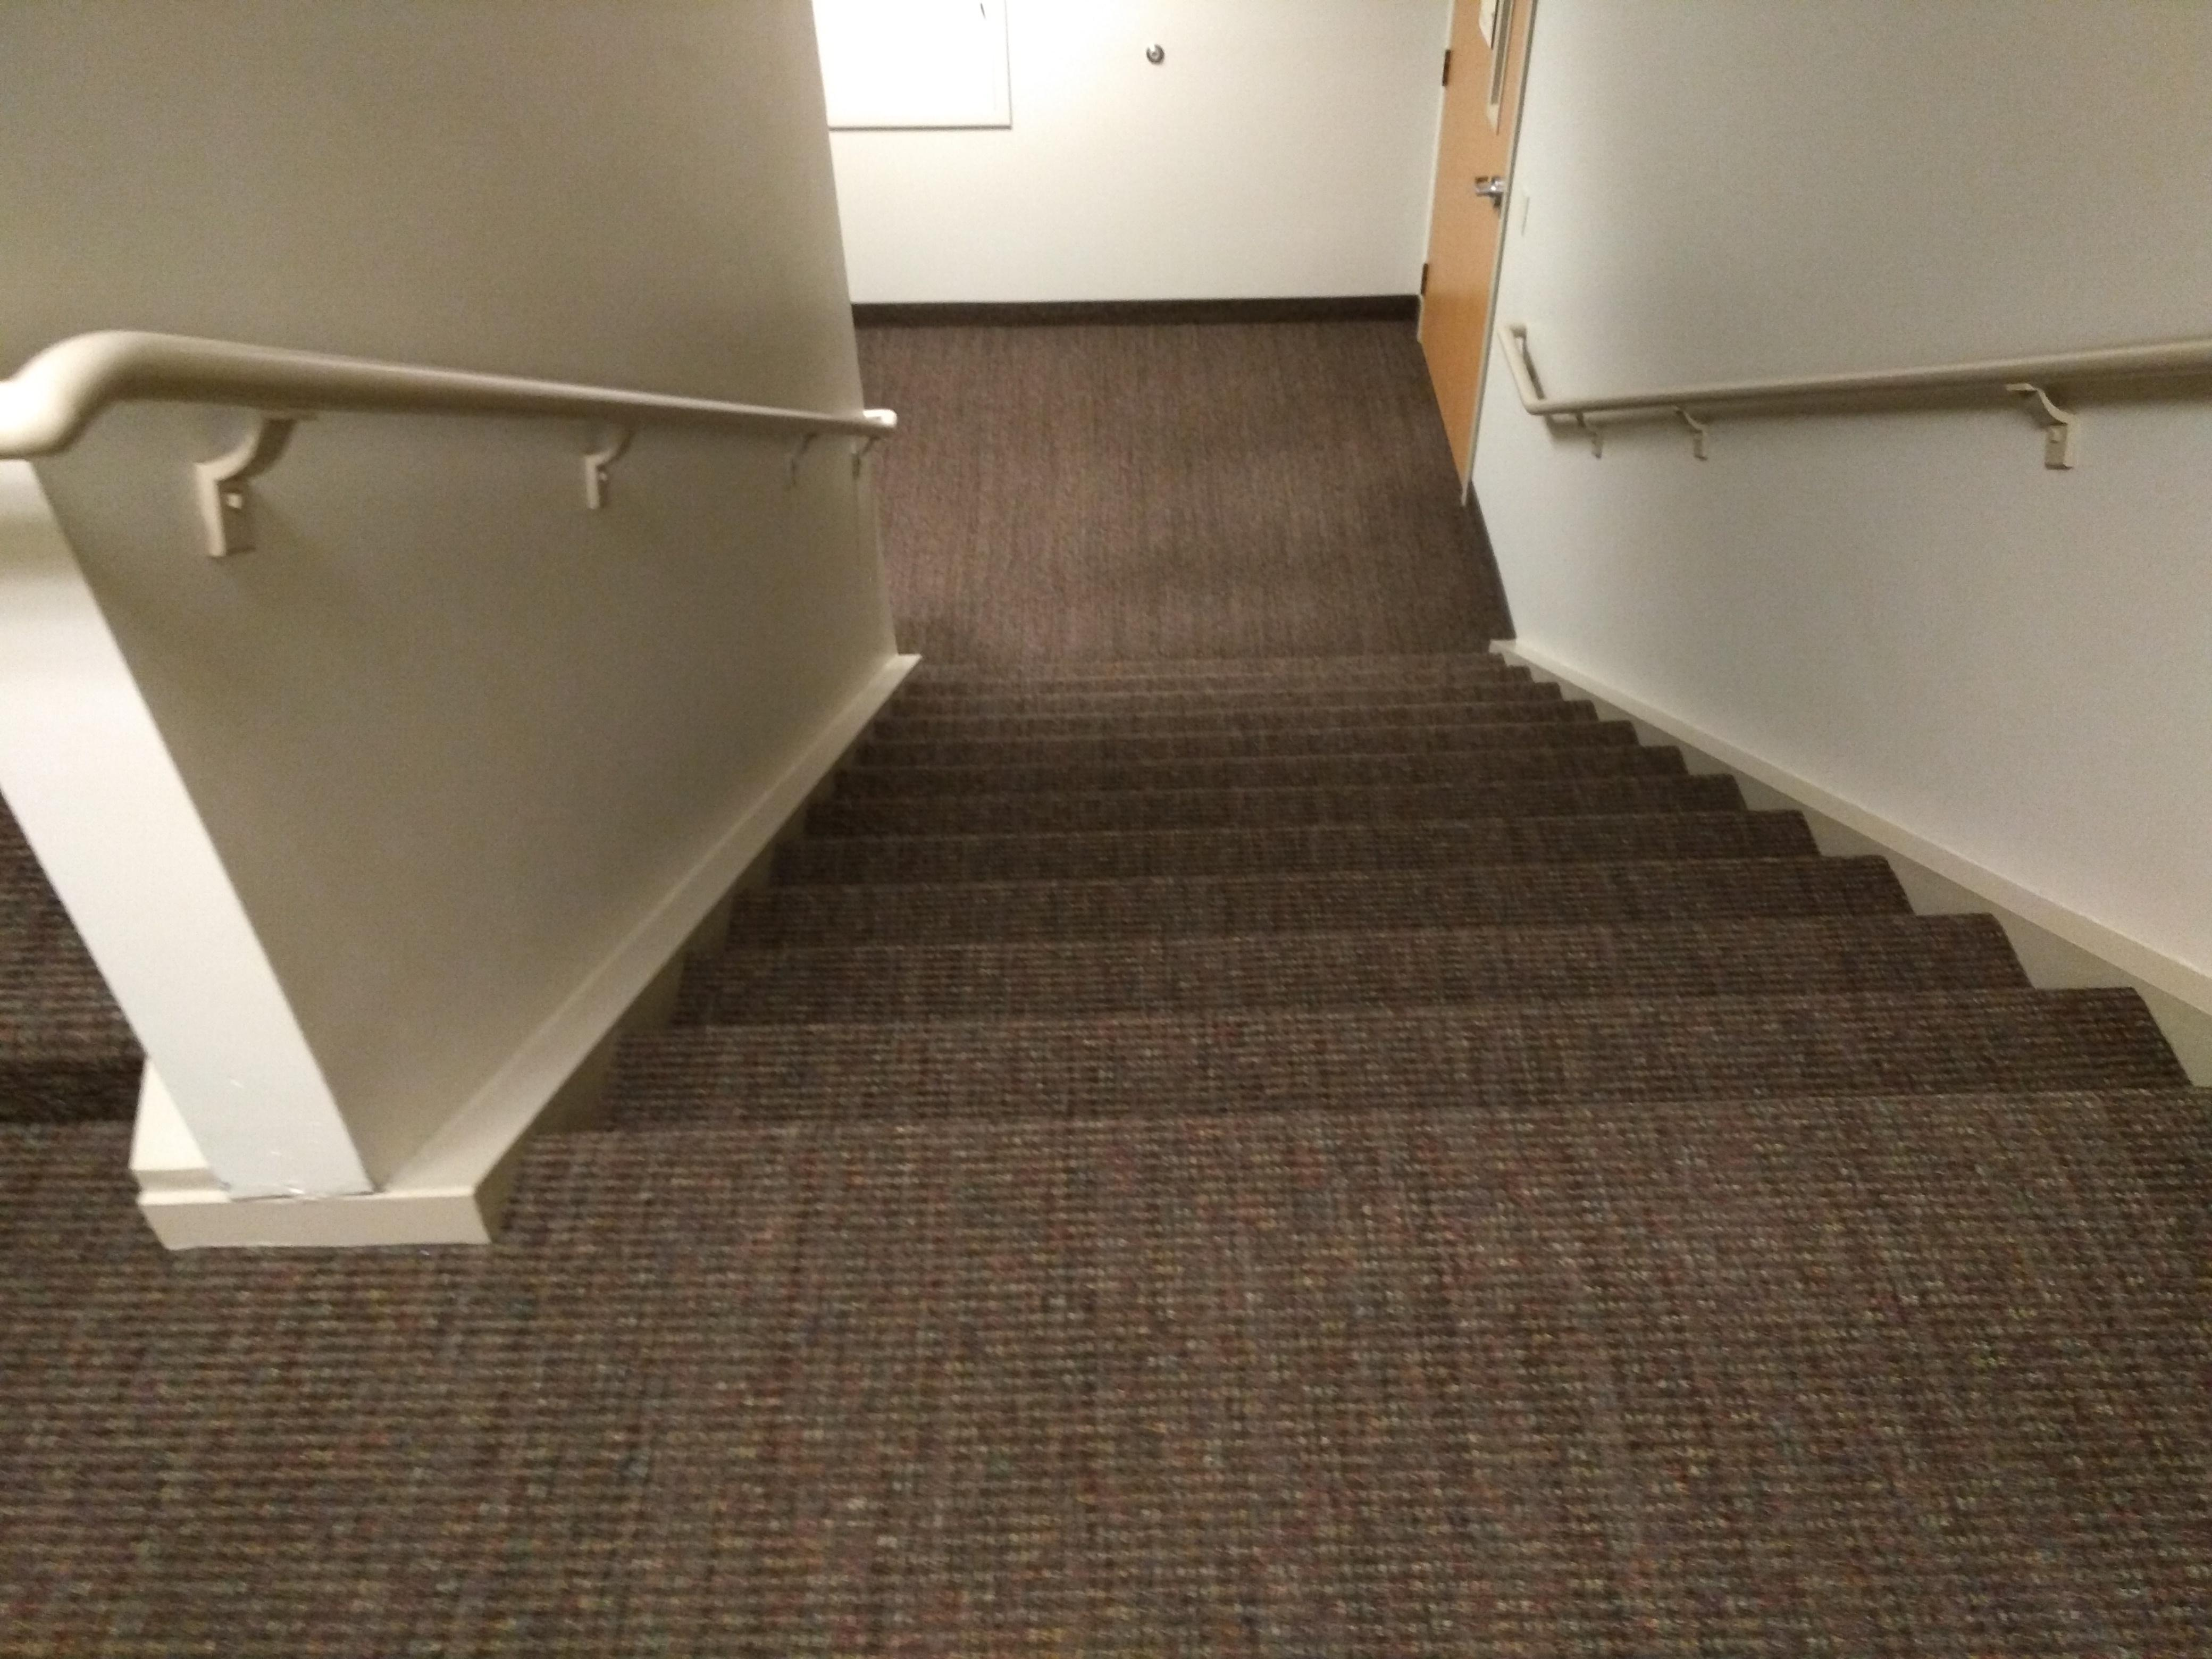stairs_down: (526, 610, 2186, 1166)
